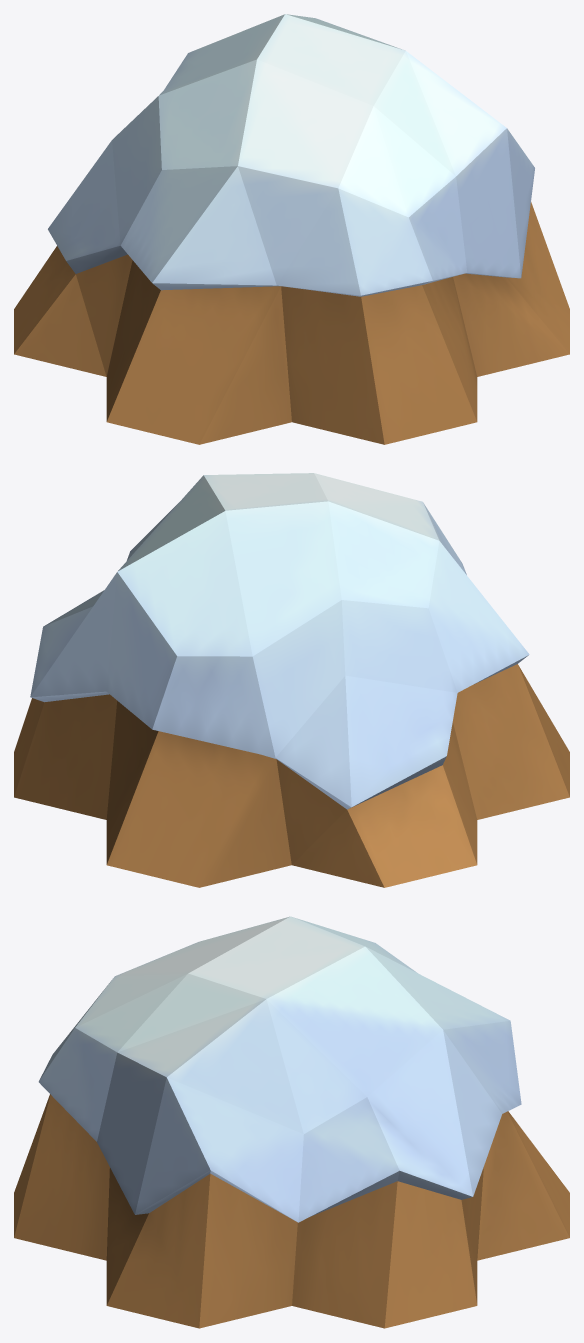
The model's file is RocherNeige_D.FBX.
3 renders of one model, top to bottom at view 1: azimuth 30°, elevation 25°; view 2: azimuth 150°, elevation 25°; view 3: azimuth 270°, elevation 25°, orthographic.
Visible parts, largest first — view 1: RocherNeige_D; view 2: RocherNeige_D; view 3: RocherNeige_D.
Boxes of the visible parts, x1,y1,x2,y2 form: RocherNeige_D: (14,14,569,444); RocherNeige_D: (14,473,569,887); RocherNeige_D: (14,916,569,1328).
Size of the model in its own units: 2.5 by 1.46 by 2.6.
